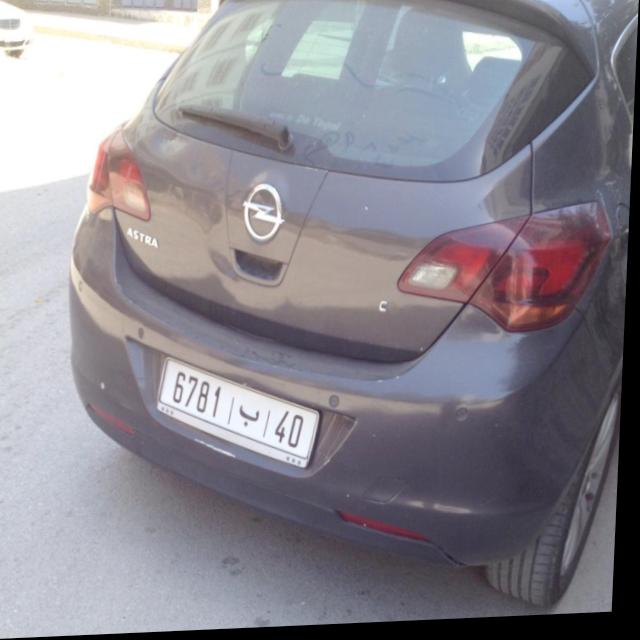License-Plate: (162, 359, 324, 470)
